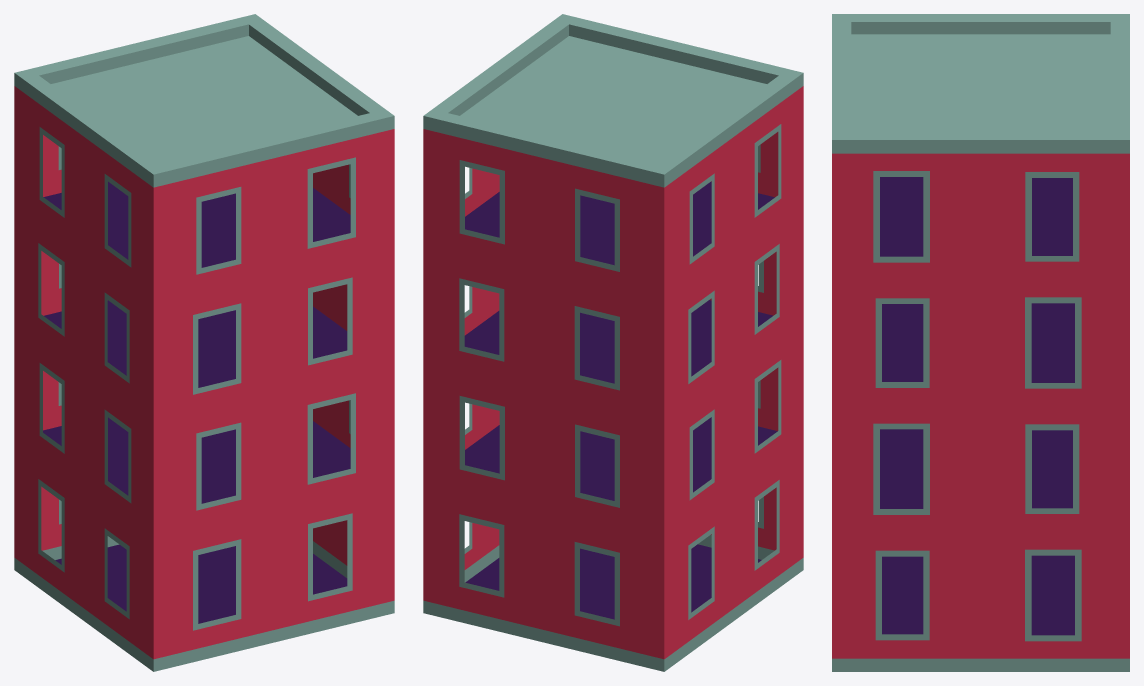
Rendered from building_1.glb.
3 renders of one model, left to right at view 1: azimuth 30°, elevation 25°; view 2: azimuth 150°, elevation 25°; view 3: azimuth 270°, elevation 25°, orthographic. The views are drawn at different scales.
Visible parts, largest first — view 1: building_1; view 2: building_1; view 3: building_1.
Boxes of the visible parts, x1,y1,x2,y2 form: building_1: (14,14,394,671); building_1: (423,14,803,671); building_1: (832,14,1129,671).
Size of the model in its own units: 2 by 3.94 by 2.
1 material, 1 textured.
